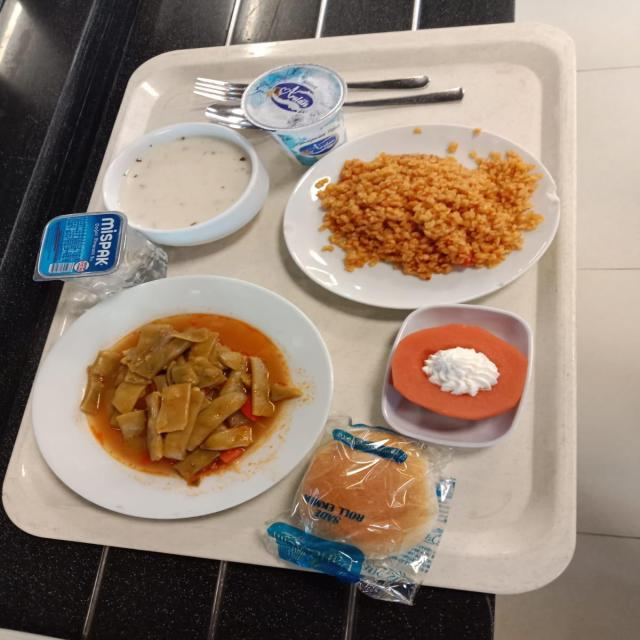ana_yemek: (30, 277, 332, 516), (280, 125, 553, 303)
corba: (102, 123, 268, 243)
yan_yemek: (381, 304, 534, 445)
